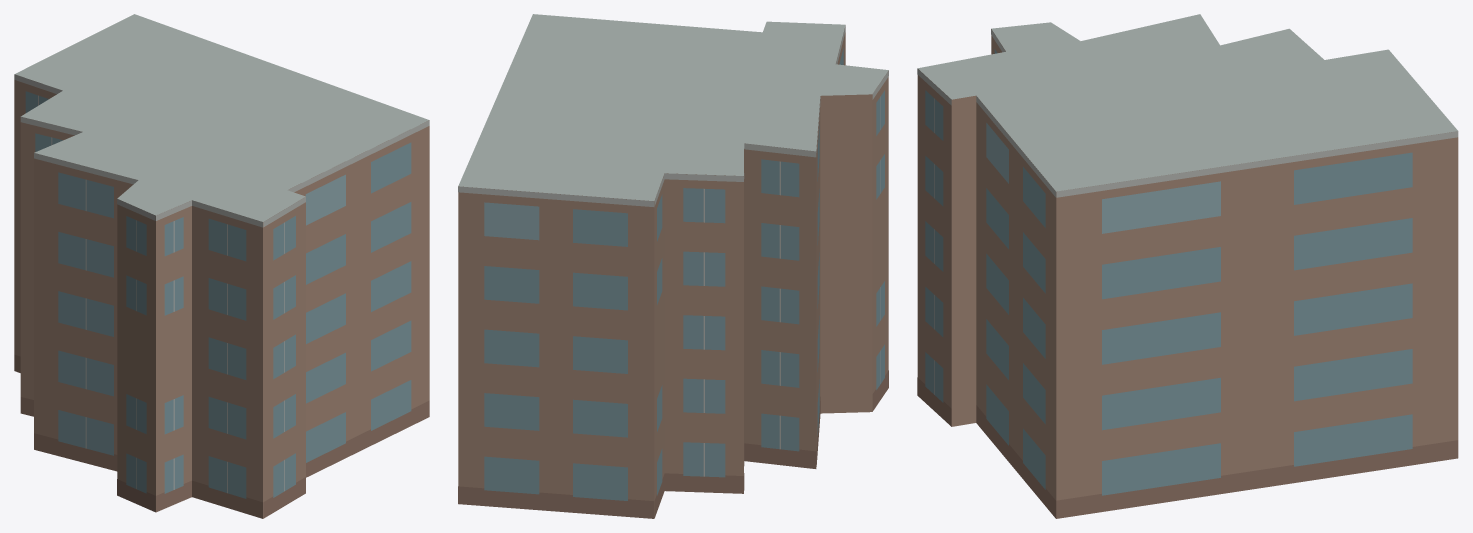
The model's file is survey-upis-32638006.glb.
3 renders of one model, left to right at view 1: azimuth 30°, elevation 25°; view 2: azimuth 150°, elevation 25°; view 3: azimuth 270°, elevation 25°, orthographic. The views are drawn at different scales.
Visible parts, largest first — view 1: survey-upis-32638006.tmp; view 2: survey-upis-32638006.tmp; view 3: survey-upis-32638006.tmp.
Part boxes in pixels (x1,y1,x2,y2): survey-upis-32638006.tmp: [14, 14, 429, 518]; survey-upis-32638006.tmp: [458, 14, 888, 518]; survey-upis-32638006.tmp: [917, 14, 1458, 518].
Size of the model in its own units: 15.03 by 12.9 by 19.33.
